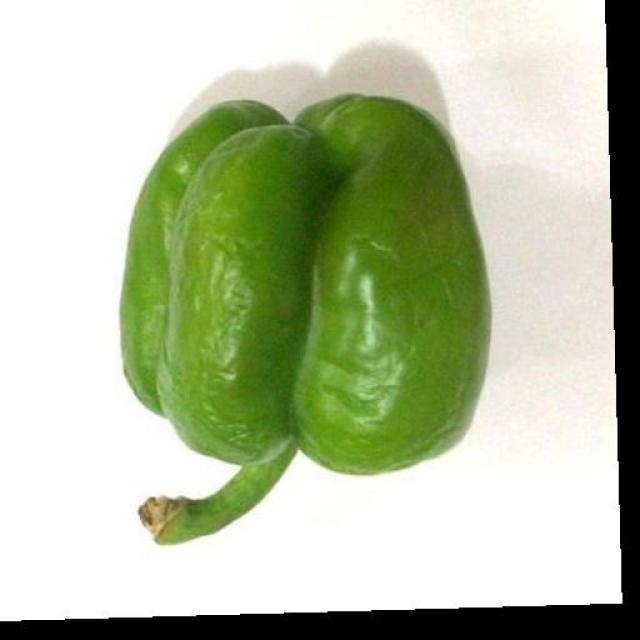Fresh_Capsicum: (112, 57, 492, 470)
